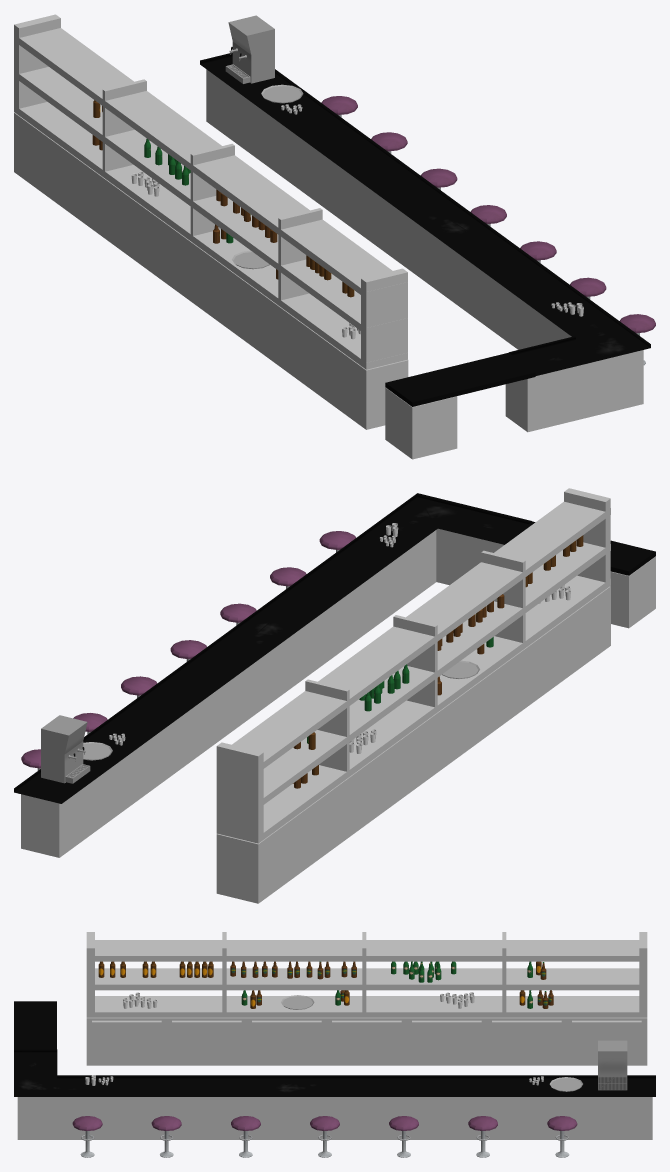
The model's file is bar2.fbx.
The picture shows the model from 3 angles, top to bottom: view 1: azimuth 30°, elevation 25°; view 2: azimuth 150°, elevation 25°; view 3: azimuth 270°, elevation 25°; orthographic projection. The views are drawn at different scales.
Parts seen in each view (by area): view 1: polySurface98, polySurface70, polySurface71, polySurface73, polySurface90, polySurface162; view 2: polySurface98, polySurface70, polySurface71, polySurface162, polySurface90, polySurface73; view 3: polySurface98, polySurface70, polySurface71, polySurface73, polySurface162, polySurface96, polySurface104, polySurface99, polySurface103, polySurface100, polySurface102, polySurface101 (+2 smaller).
Boxes of the visible parts, left/top/right/bottom form: polySurface98: left=14, top=14, right=408, bottom=429; polySurface70: left=206, top=69, right=643, bottom=432; polySurface71: left=200, top=52, right=650, bottom=375; polySurface73: left=385, top=352, right=535, bottom=406; polySurface90: left=385, top=387, right=457, bottom=459; polySurface162: left=225, top=15, right=274, bottom=83; polySurface98: left=216, top=488, right=610, bottom=903; polySurface70: left=21, top=528, right=503, bottom=857; polySurface71: left=14, top=493, right=532, bottom=803; polySurface162: left=41, top=715, right=90, bottom=783; polySurface90: left=610, top=556, right=655, bottom=628; polySurface73: left=505, top=521, right=655, bottom=575; polySurface98: left=86, top=932, right=647, bottom=1065; polySurface70: left=17, top=1097, right=652, bottom=1139; polySurface71: left=14, top=1049, right=655, bottom=1096; polySurface73: left=14, top=1001, right=56, bottom=1049; polySurface162: left=598, top=1040, right=627, bottom=1090; polySurface96: left=72, top=1116, right=102, bottom=1157; polySurface104: left=547, top=1116, right=577, bottom=1157; polySurface99: left=151, top=1116, right=181, bottom=1157; polySurface103: left=468, top=1116, right=497, bottom=1157; polySurface100: left=231, top=1116, right=260, bottom=1157; polySurface102: left=389, top=1116, right=418, bottom=1157; polySurface101: left=310, top=1116, right=339, bottom=1157.
Bounding box in the file's own units: 375 × 184 × 910.
